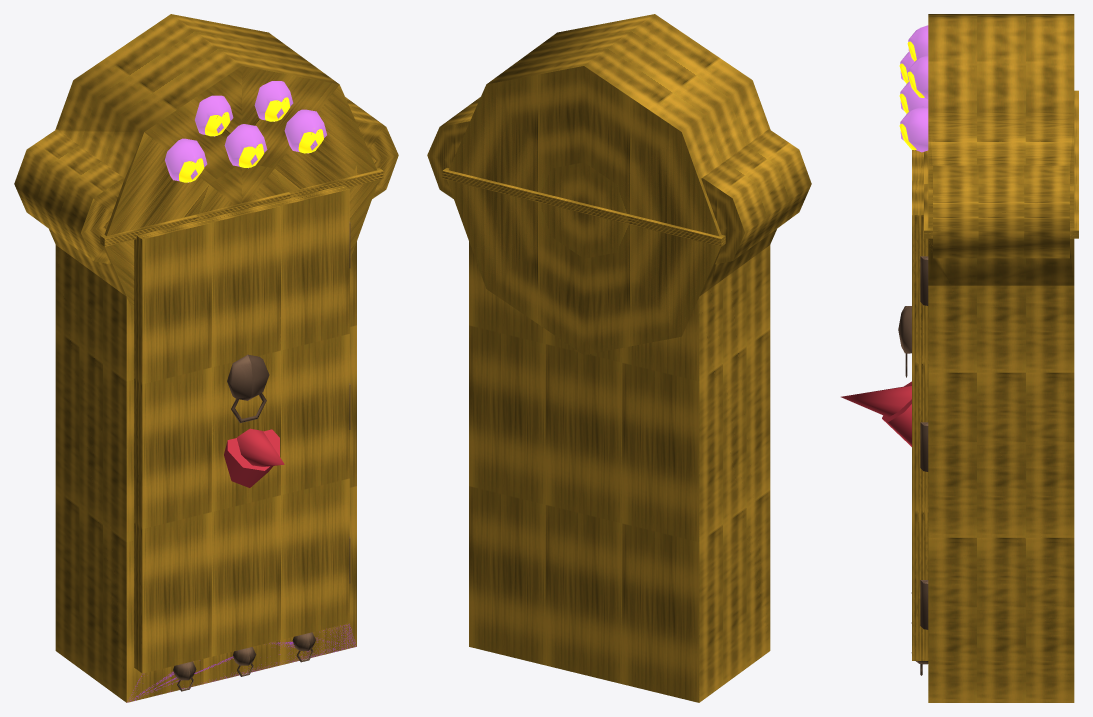
Rendered from cupboard.gltf.
3 views of the same model, side by side, from view 1: azimuth 30°, elevation 25°; view 2: azimuth 150°, elevation 25°; view 3: azimuth 270°, elevation 25° (orthographic). The views are drawn at different scales.
Visible parts, largest first — view 1: CSGBox3D2, CSGBox3D24, CSGCylinder3D5, Eye2, Eye32, Eye23, Eye52, Eye42, CSGBox3D5; view 2: CSGBox3D2; view 3: CSGBox3D2, CSGBox3D24, CSGCylinder3D5, Eye23, Eye42, Eye52, Eye2.
Part boxes in pixels (x1,y1,x2,y2): CSGBox3D2: (14,14,398,702); CSGBox3D24: (134,185,350,673); CSGCylinder3D5: (224,428,284,487); Eye2: (224,124,267,168); Eye32: (165,138,207,182); Eye23: (284,109,326,153); Eye52: (195,95,233,136); Eye42: (254,81,293,121); CSGBox3D5: (127,624,356,702); CSGBox3D2: (427,14,811,702); CSGBox3D2: (911,14,1078,702); CSGBox3D24: (898,150,930,660); CSGCylinder3D5: (841,381,911,446); Eye23: (899,106,928,152); Eye42: (907,55,928,99); Eye52: (907,25,928,61); Eye2: (899,82,928,113).
Size of the model in its own units: 2.07 by 3.79 by 1.31.
Materials: 9 (4 with a texture image).
